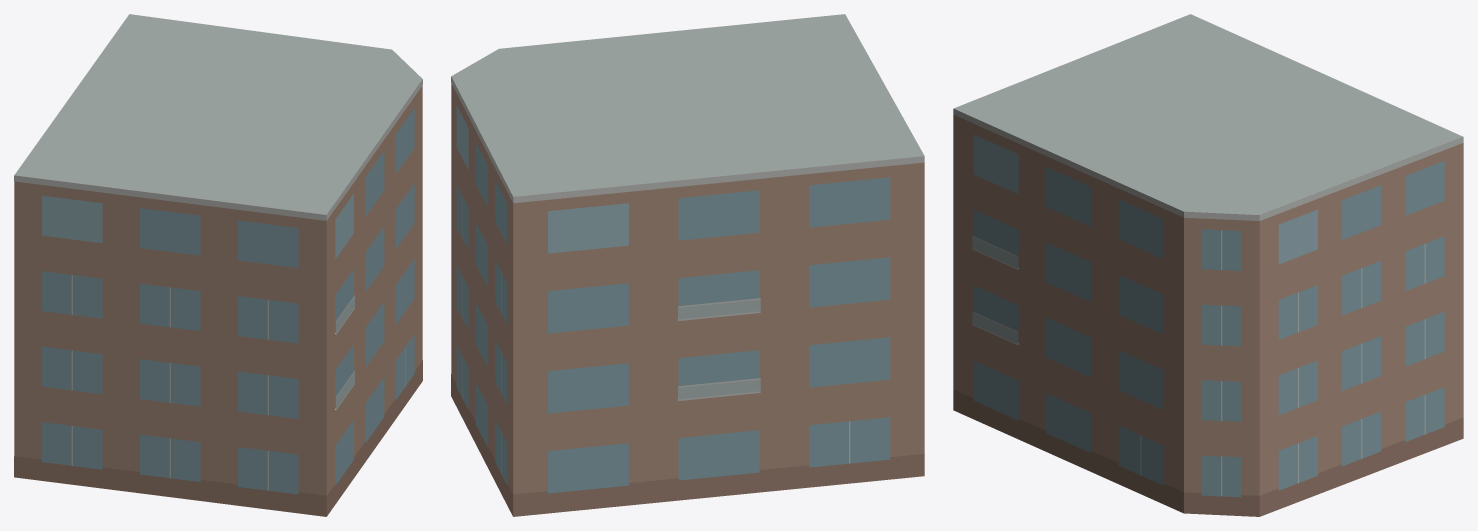
The model's file is survey-upis-32814406.glb.
The picture shows the model from 3 angles, left to right: view 1: azimuth 30°, elevation 25°; view 2: azimuth 150°, elevation 25°; view 3: azimuth 270°, elevation 25°; orthographic projection. The views are drawn at different scales.
Visible parts, largest first — view 1: survey-upis-32814406.tmp; view 2: survey-upis-32814406.tmp; view 3: survey-upis-32814406.tmp.
Part boxes in pixels (left/top/right/bottom): survey-upis-32814406.tmp: left=14, top=14, right=422, bottom=516; survey-upis-32814406.tmp: left=451, top=14, right=924, bottom=516; survey-upis-32814406.tmp: left=953, top=14, right=1463, bottom=516.
Bounding box in the file's own units: 17.55 × 12.27 × 18.81.
